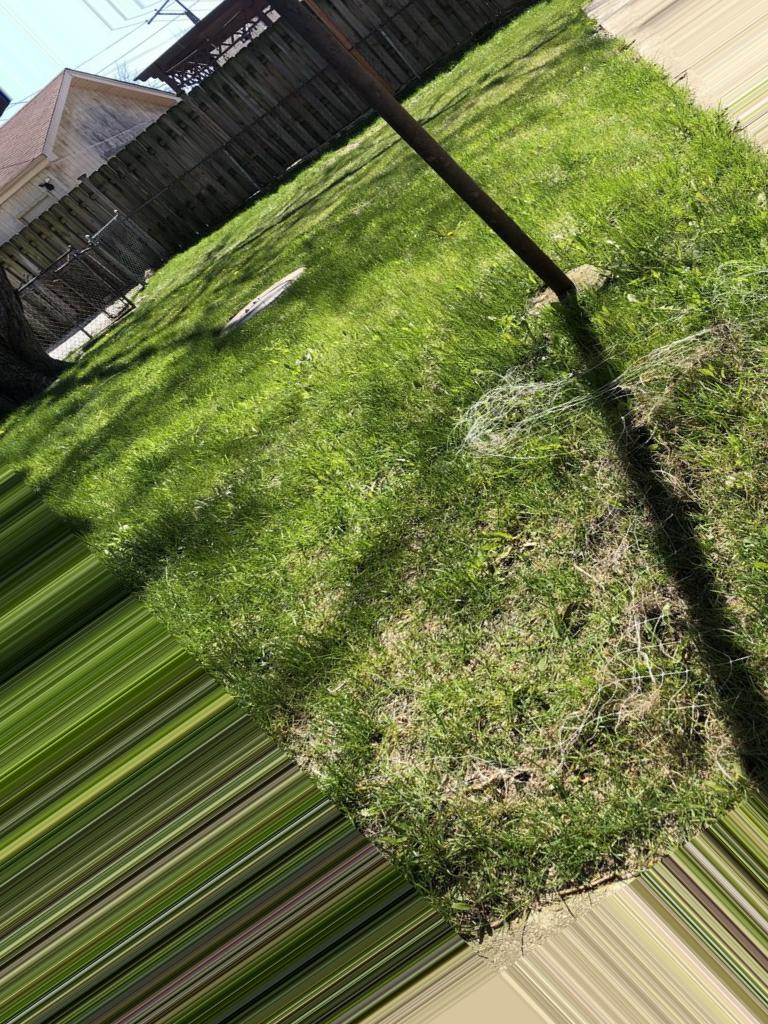patch: (584, 517, 723, 770), (373, 616, 417, 775)
